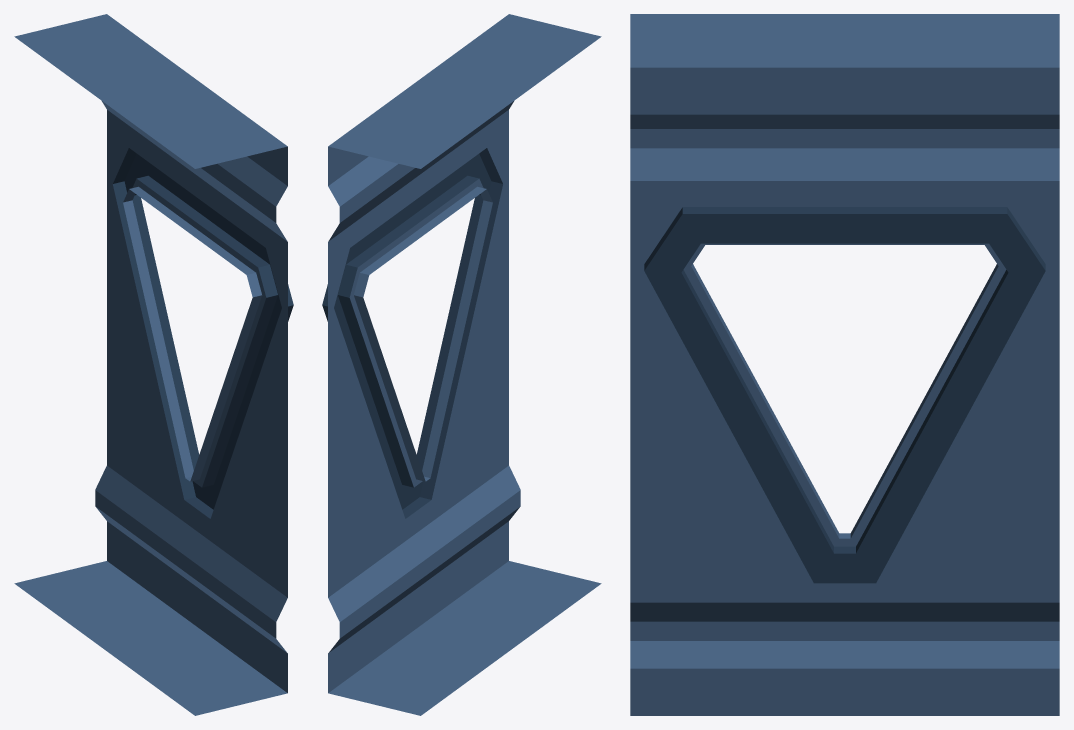
File: Wall.fbx
The picture shows the model from 3 angles, left to right: view 1: azimuth 30°, elevation 25°; view 2: azimuth 150°, elevation 25°; view 3: azimuth 270°, elevation 25°; orthographic projection. The views are drawn at different scales.
Visible parts, largest first — view 1: SM_Wall; view 2: SM_Wall; view 3: SM_Wall.
Boxes of the visible parts, x1=… form: SM_Wall: x1=14, y1=14, x2=293, y2=715; SM_Wall: x1=322, y1=14, x2=601, y2=715; SM_Wall: x1=630, y1=14, x2=1059, y2=715.
Bounding box in the file's own units: 1 × 5 × 3.
